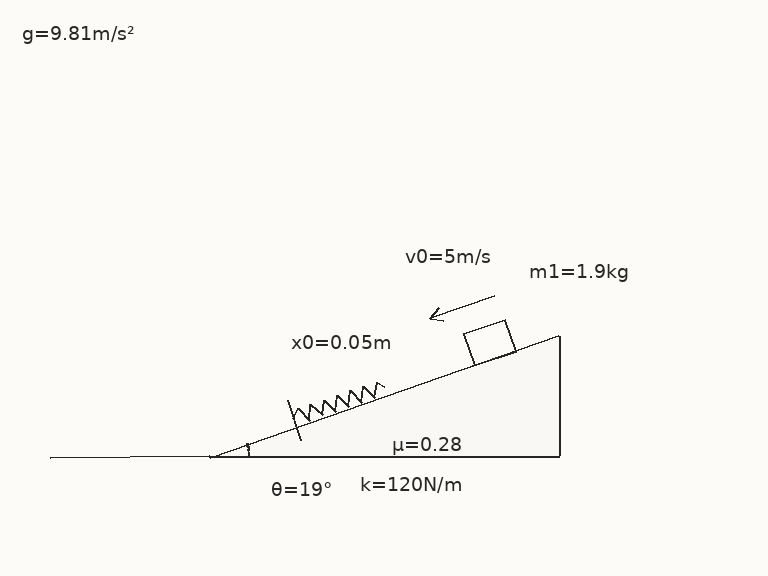block: (461, 318, 517, 367)
ramp: (207, 334, 561, 458)
spring: (292, 380, 386, 422)
